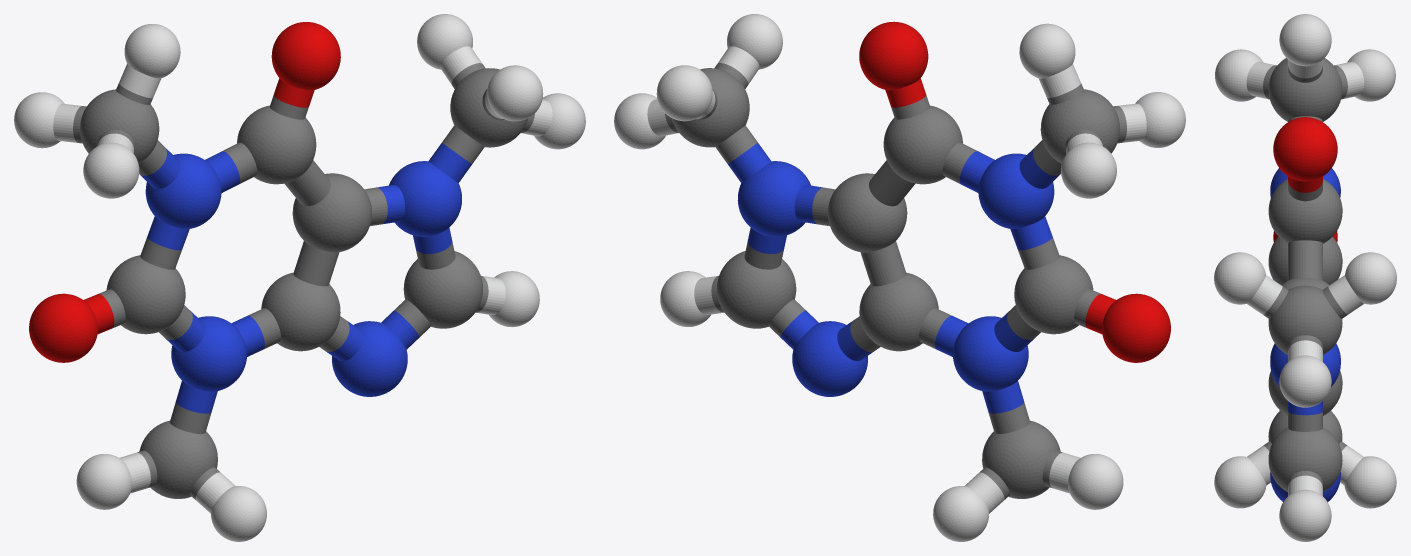
File: cafeina.glb
3 views of the same model, side by side, from view 1: azimuth 30°, elevation 25°; view 2: azimuth 150°, elevation 25°; view 3: azimuth 270°, elevation 25° (orthographic). The views are drawn at different scales.
Parts seen in each view (by area): view 1: atoms; view 2: atoms; view 3: atoms.
Boxes of the visible parts, bbox=[...] form: atoms: bbox=[14, 14, 585, 541]; atoms: bbox=[614, 14, 1185, 541]; atoms: bbox=[1214, 14, 1396, 541].
Size of the model in its own units: 8.13 by 7.08 by 2.52.
